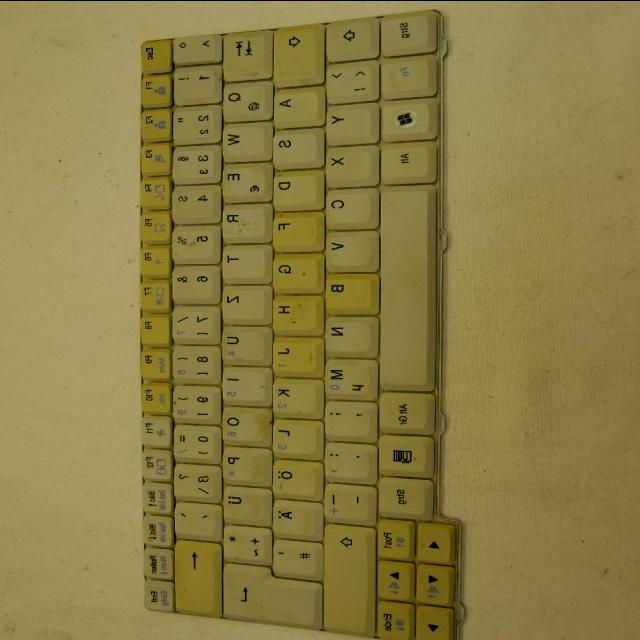0: (170, 422, 218, 460)
1: (169, 62, 219, 102)
2: (169, 103, 219, 142)
3: (168, 142, 218, 182)
4: (167, 182, 219, 221)
5: (168, 223, 218, 262)
6: (168, 262, 218, 301)
7: (168, 303, 218, 341)
8: (170, 343, 218, 380)
9: (169, 383, 219, 422)
a: (269, 85, 321, 125)
accent: (171, 500, 219, 537)
ae: (269, 497, 321, 537)
alt-left: (377, 140, 433, 182)
altgr-right: (376, 389, 432, 431)
b: (321, 270, 377, 312)
c: (322, 184, 377, 227)
caret: (170, 31, 220, 61)
comma: (321, 398, 375, 438)
d: (269, 168, 321, 208)
del: (171, 537, 219, 614)
e: (218, 160, 270, 200)
enter: (220, 560, 321, 628)
f: (269, 209, 321, 249)
g: (269, 252, 321, 290)
h: (269, 293, 321, 333)
hash: (269, 536, 321, 577)
i: (219, 365, 269, 403)
j: (269, 335, 321, 373)
k: (269, 376, 321, 416)
keyboard: (132, 8, 464, 640)
l: (269, 417, 321, 455)
less: (322, 58, 378, 102)
m: (322, 356, 377, 398)
minus: (322, 481, 375, 523)
n: (322, 314, 375, 354)
o: (219, 404, 269, 444)
oe: (269, 458, 321, 496)
p: (220, 445, 270, 483)
plus: (220, 522, 270, 561)
point: (322, 440, 374, 481)
q: (219, 78, 271, 120)
r: (217, 201, 269, 241)
s: (269, 125, 321, 167)
shift-left: (323, 14, 378, 59)
shift-lock: (269, 21, 322, 84)
shift-right: (319, 520, 372, 634)
space: (376, 185, 432, 387)
ss: (170, 461, 220, 499)
strg-left: (377, 7, 435, 54)
strg-right: (374, 475, 432, 518)
t: (218, 242, 268, 280)
tab: (217, 28, 269, 78)
u: (219, 324, 269, 363)
ue: (220, 484, 270, 523)
v: (322, 228, 377, 270)
w: (217, 120, 269, 159)
x: (322, 143, 377, 185)
y: (323, 101, 377, 143)
z: (218, 283, 268, 321)
